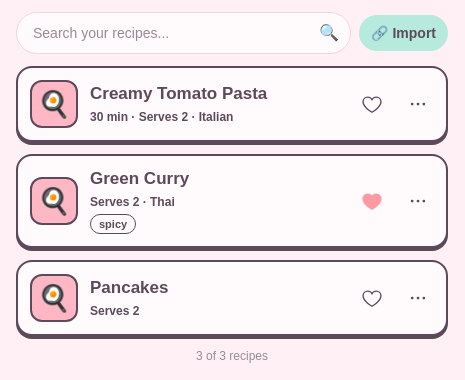
Test case: Recipes tab list (issue #801) › favourite › flips the heart at once and saves it with PUT is_favorite
The width and height of the screenshot is (465, 380).
Click the button named "Favorite: Creamy Tomato Pasta" at (372, 104), box left=350, top=82, right=394, bottom=126
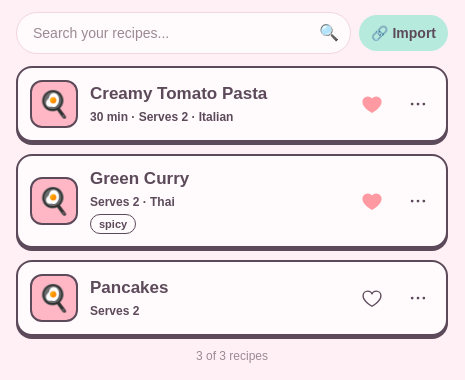
Check: the button named "Unfavorite: Creamy Tomato Pasta" is shown, box left=350, top=82, right=394, bottom=126
